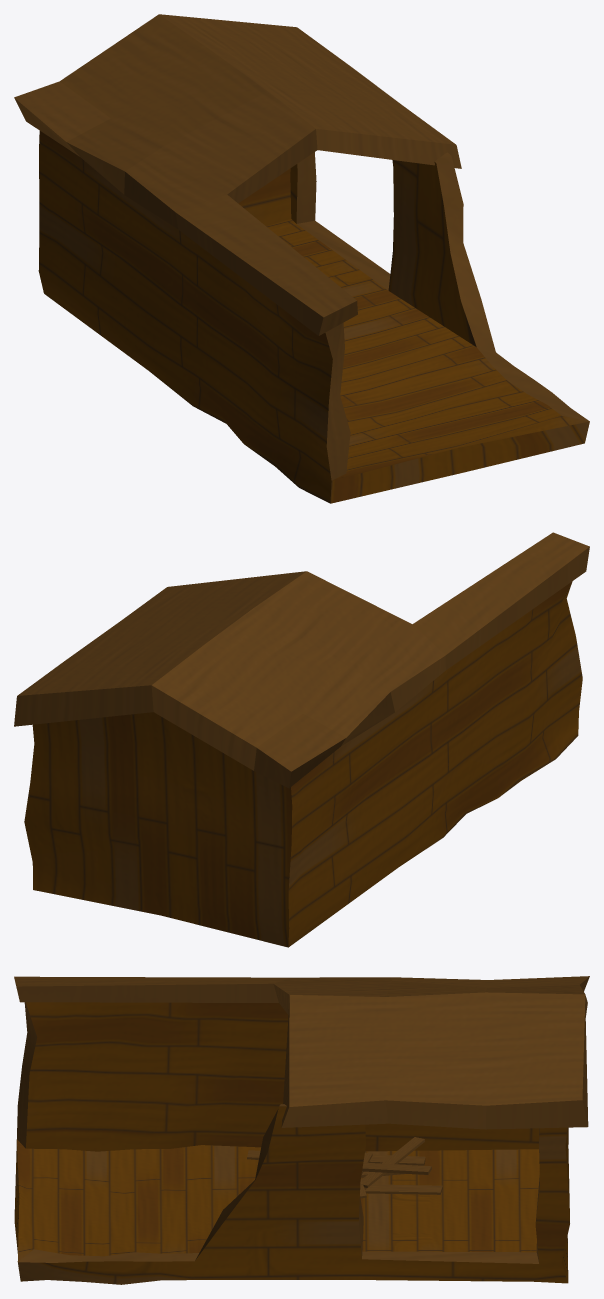
Rendered from mesh_brokenHouse.fbx.
3 views of the same model, one above another, from view 1: azimuth 30°, elevation 25°; view 2: azimuth 150°, elevation 25°; view 3: azimuth 270°, elevation 25° (orthographic). The views are drawn at different scales.
Visible parts, largest first — view 1: mesh_BrokenHouse; view 2: mesh_BrokenHouse; view 3: mesh_BrokenHouse.
Boxes of the visible parts, x1,y1,x2,y2 form: mesh_BrokenHouse: (14,14,589,503); mesh_BrokenHouse: (14,532,589,947); mesh_BrokenHouse: (14,976,589,1284).
Size of the model in its own units: 45.74 by 37.45 by 84.29.
